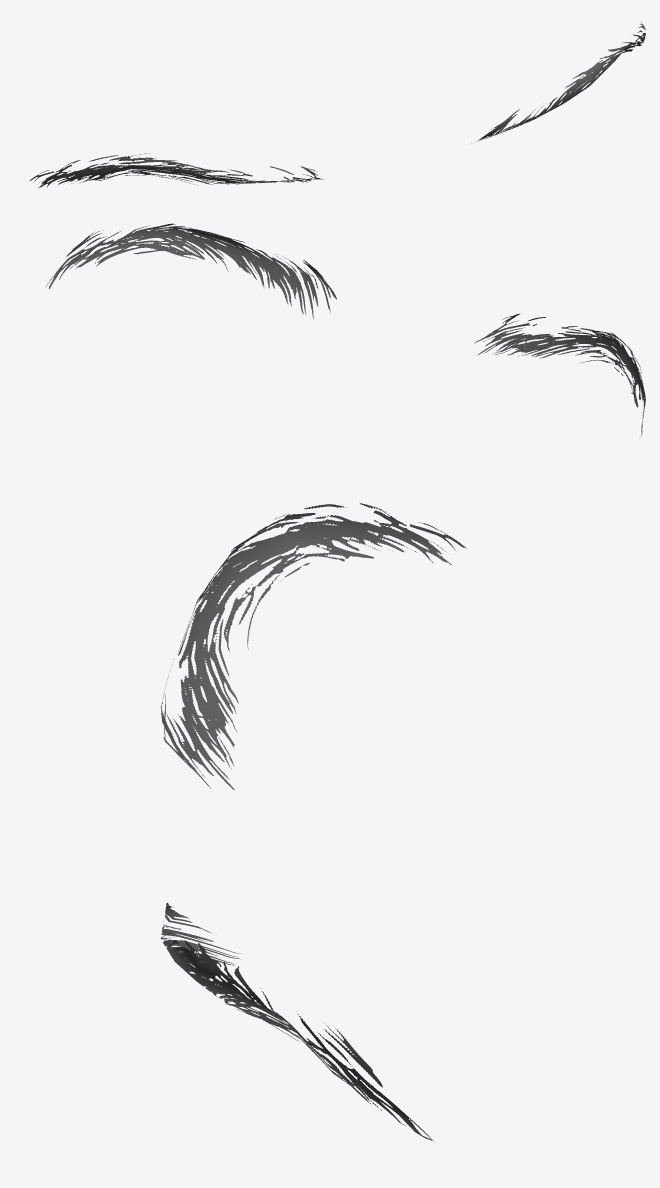
Rendered from brow010.glb.
3 renders of one model, top to bottom at view 1: azimuth 30°, elevation 25°; view 2: azimuth 150°, elevation 25°; view 3: azimuth 270°, elevation 25°, orthographic. The views are drawn at different scales.
Visible parts, largest first — view 1: editor_brow010; view 2: editor_brow010; view 3: editor_brow010.
Boxes of the visible parts, bbox=[...] form: editor_brow010: bbox=[29, 22, 645, 188]; editor_brow010: bbox=[46, 223, 645, 437]; editor_brow010: bbox=[160, 503, 466, 1142].
Bounding box in the file's own units: 0.1133 × 0.0134 × 0.0266.
Materials: 1 (1 with a texture image).
